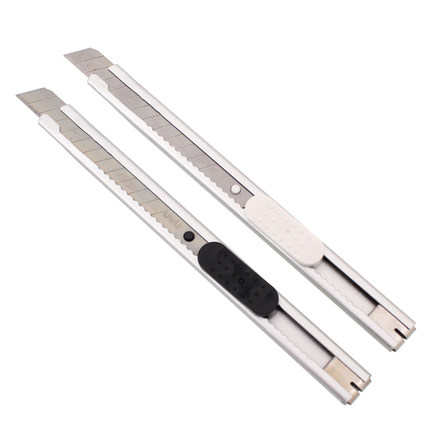cutter: (13, 87, 372, 406), (62, 46, 418, 352)
